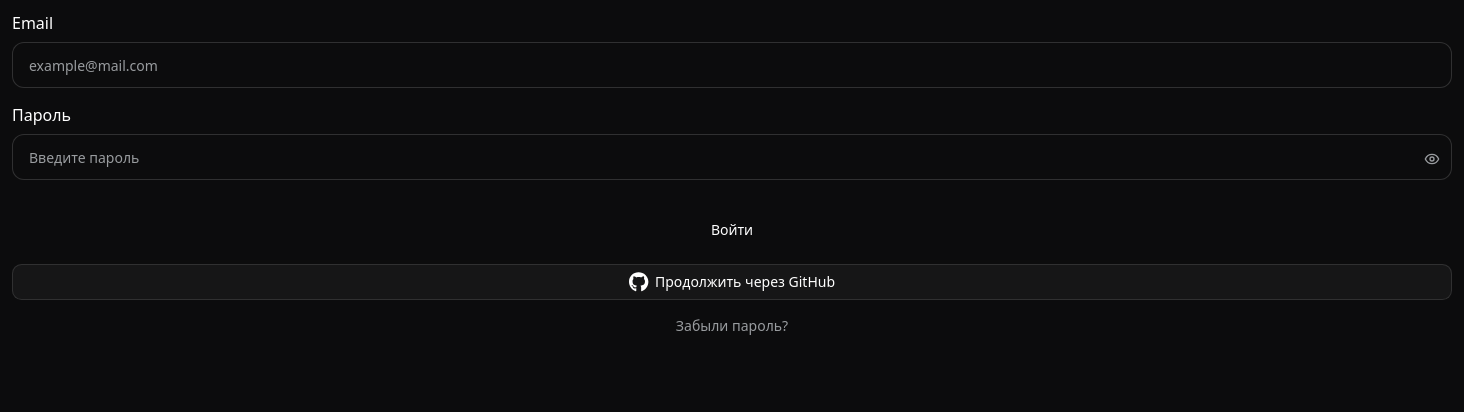
LoginForm Integration Flow (T032) › error path: ошибка API в baseFetch пробрасывается в mutation и не запускает сессию
In the field with placeholder "example@mail.com": (732, 65) [12,42,1452,88], type "developer@example.com"
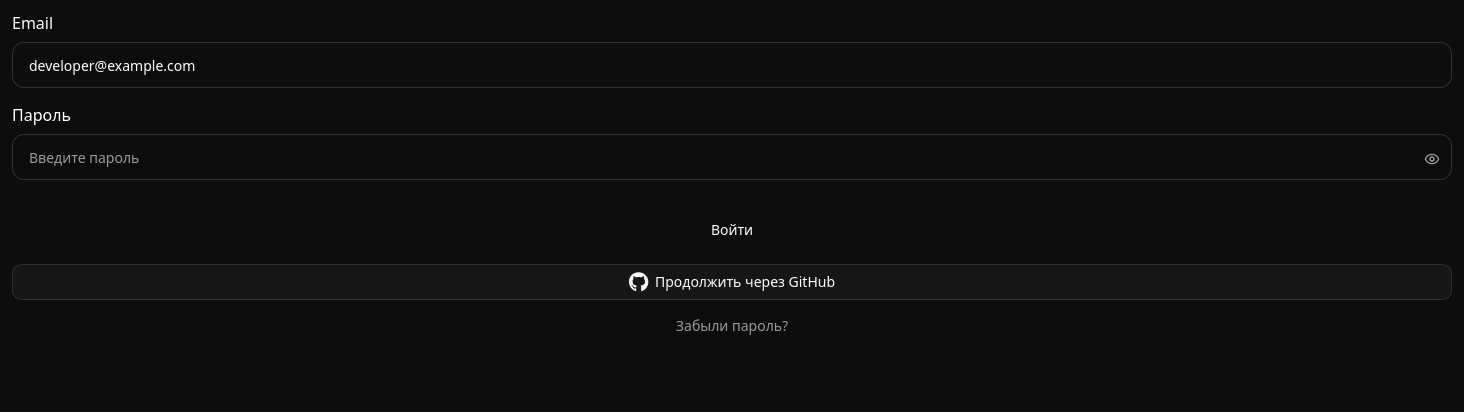
In the password field with placeholder "Введите пароль": (732, 157) [12,134,1452,180], type "WrongPassword123!"
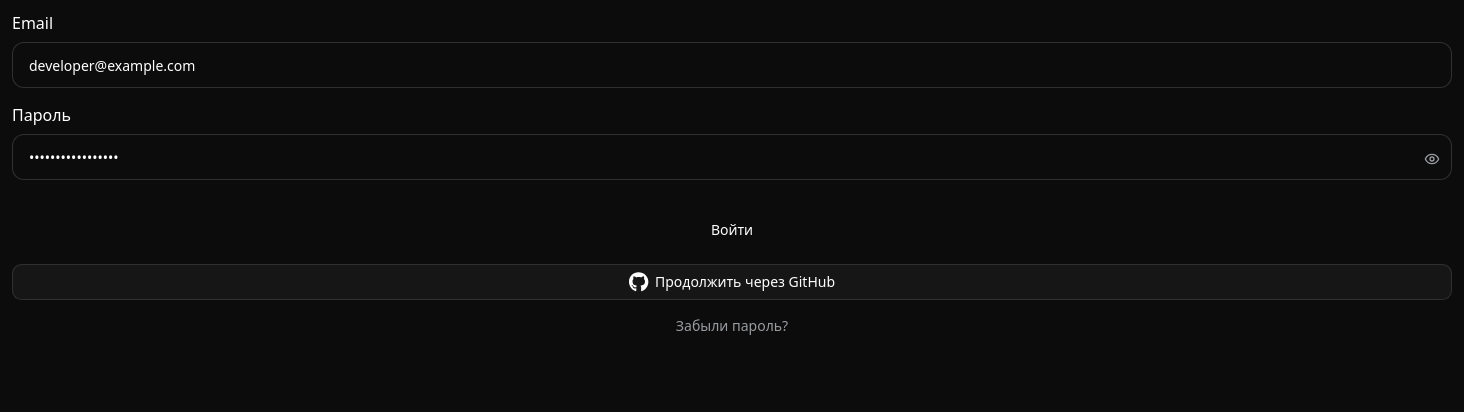
Click the button "Войти": (732, 230) [12,212,1452,248]
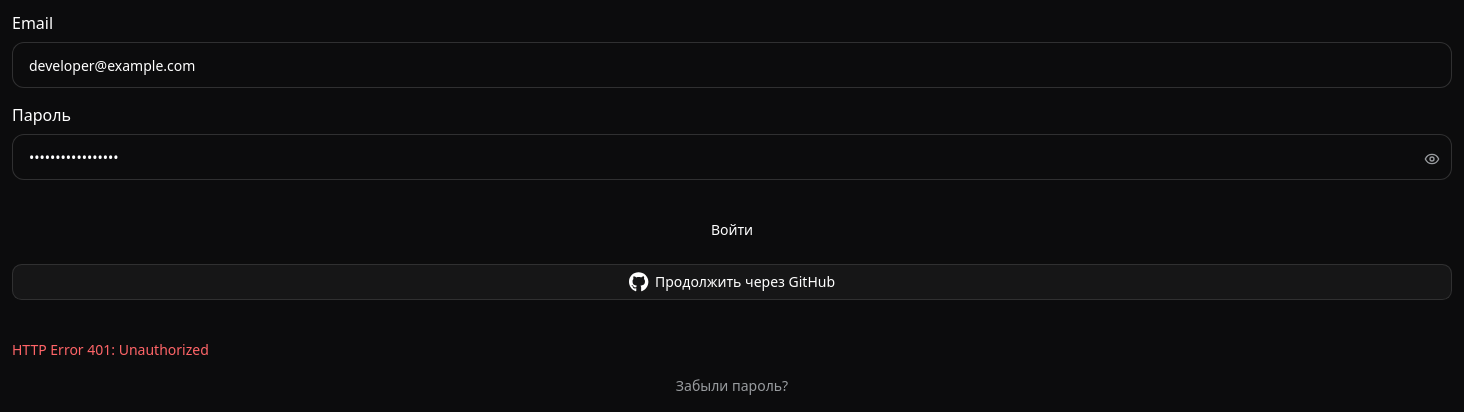
Result: the text "HTTP Error 401: Unauthorized" is shown at [12,340,209,359]
